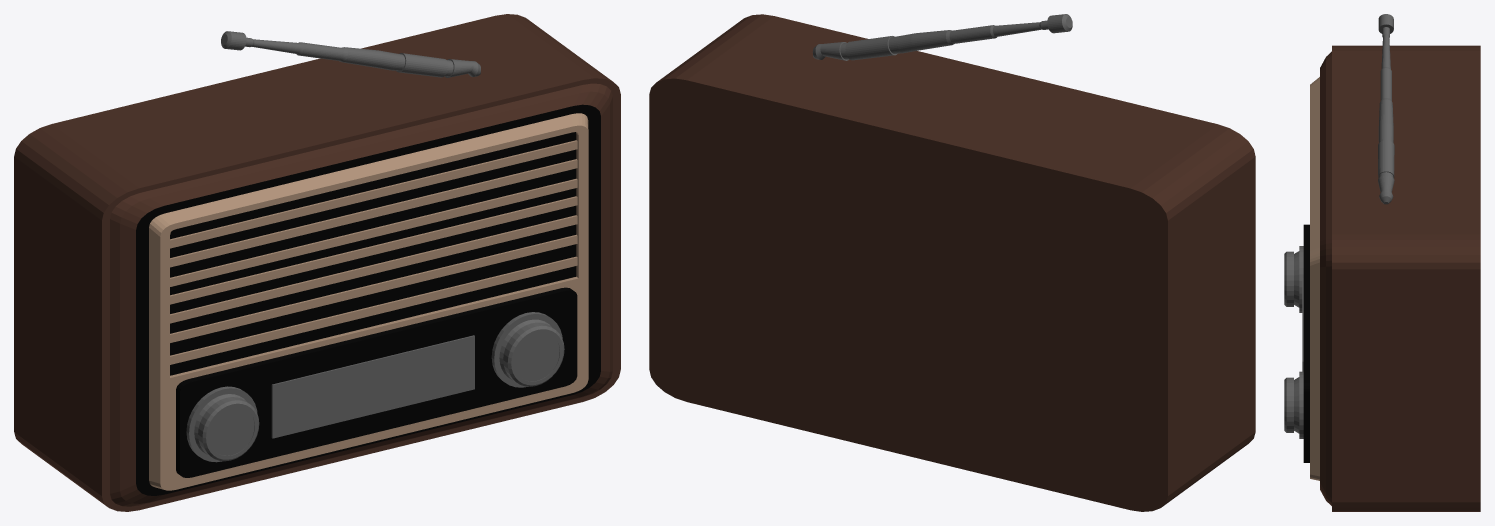
The model's file is radio.glb.
3 renders of one model, left to right at view 1: azimuth 30°, elevation 25°; view 2: azimuth 150°, elevation 25°; view 3: azimuth 270°, elevation 25°, orthographic. The views are drawn at different scales.
Parts seen in each view (by area): view 1: Cube.009; view 2: Cube.009; view 3: Cube.009.
Part boxes in pixels (<box>): Cube.009: <box>14,14,620,511</box>; Cube.009: <box>649,14,1255,511</box>; Cube.009: <box>1284,14,1480,511</box>.
Bounding box in the file's own units: 4.37 × 3.54 × 1.69.
